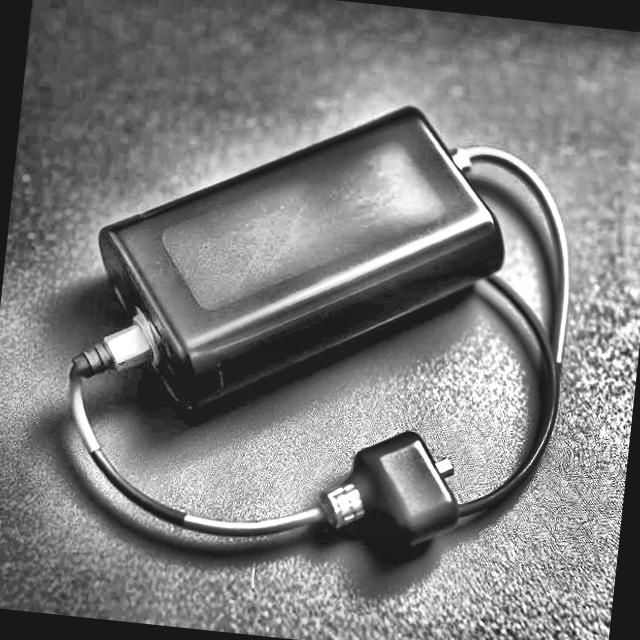Battery: (87, 71, 517, 392)
Cable: (33, 352, 560, 606), (438, 136, 624, 434)
